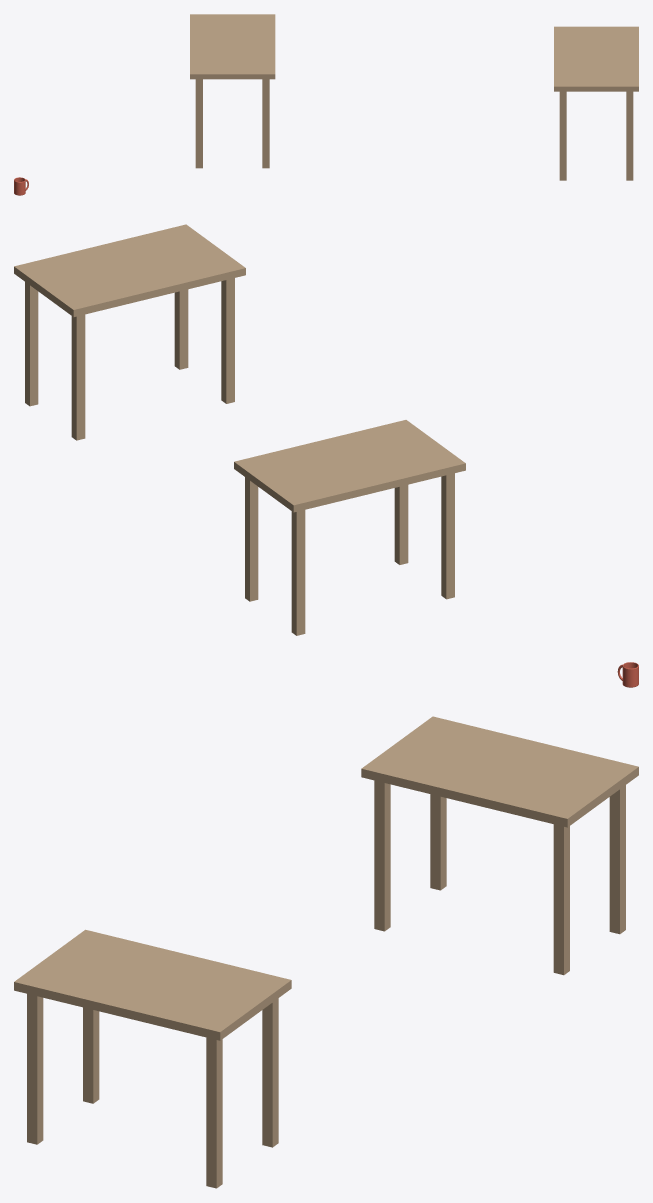
Rendered from hum_02_handover_props.glb.
The picture shows the model from 3 angles, top to bottom: view 1: azimuth 30°, elevation 25°; view 2: azimuth 150°, elevation 25°; view 3: azimuth 270°, elevation 25°; orthographic projection. The views are drawn at different scales.
Visible parts, largest first — view 1: s_box_00, s_box_05, s_box_03, s_box_01, s_box_06, s_box_08; view 2: s_box_00, s_box_05, s_box_02, s_box_07, s_box_01, s_box_06, s_box_09, s_box_04, s_box_03, s_box_08; view 3: s_box_00, s_box_05, s_box_04, s_box_09, s_box_03, s_box_08, s_box_07, s_box_02, s_box_06, s_box_01.
Boxes of the visible parts, x1,y1,x2,y2 form: s_box_00: (190, 14, 275, 79); s_box_05: (554, 26, 638, 91); s_box_03: (262, 79, 269, 168); s_box_01: (195, 79, 202, 168); s_box_06: (559, 91, 566, 180); s_box_08: (626, 91, 633, 180); s_box_00: (234, 420, 465, 512); s_box_05: (14, 224, 245, 317); s_box_02: (291, 510, 305, 635); s_box_07: (71, 314, 85, 440); s_box_01: (441, 473, 454, 599); s_box_06: (221, 278, 234, 403); s_box_09: (25, 282, 38, 406); s_box_04: (245, 477, 258, 601); s_box_03: (394, 484, 408, 564); s_box_08: (174, 289, 188, 369); s_box_00: (361, 716, 638, 827); s_box_05: (14, 929, 291, 1040); s_box_04: (553, 824, 569, 975); s_box_09: (206, 1037, 222, 1188); s_box_03: (374, 780, 390, 931); s_box_08: (27, 994, 43, 1144); s_box_07: (262, 998, 278, 1147); s_box_02: (609, 785, 625, 934); s_box_06: (83, 1007, 99, 1103); s_box_01: (430, 794, 446, 890).
Size of the model in its own units: 4.35 by 0.8025 by 2.63.
